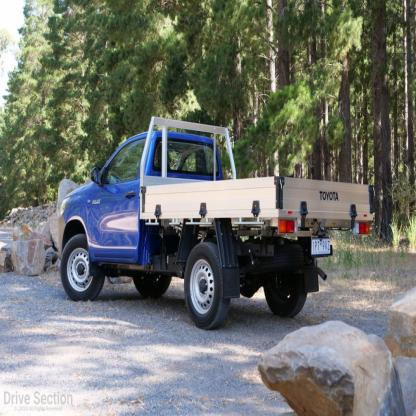light_vehicle: (52, 108, 379, 331)
